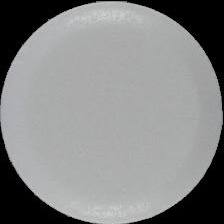53489-176: (0, 0, 224, 224)
